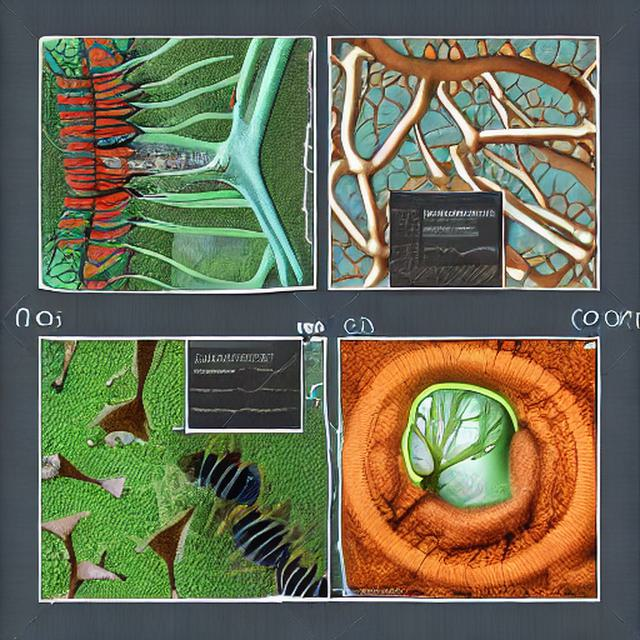Graph: (405, 234, 503, 288)
